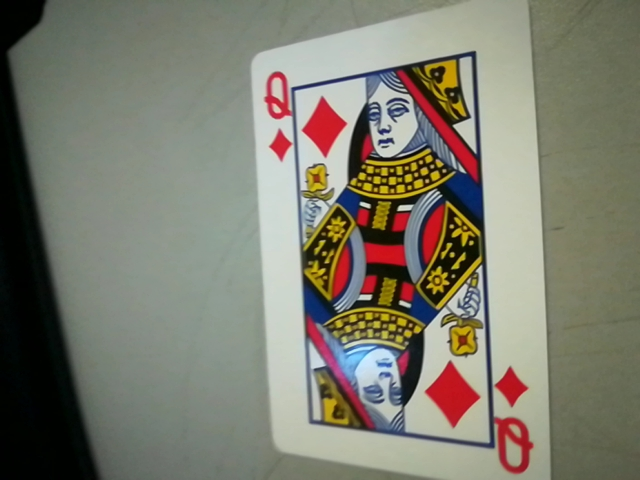fk q: (487, 364, 545, 480), (252, 64, 302, 165)
